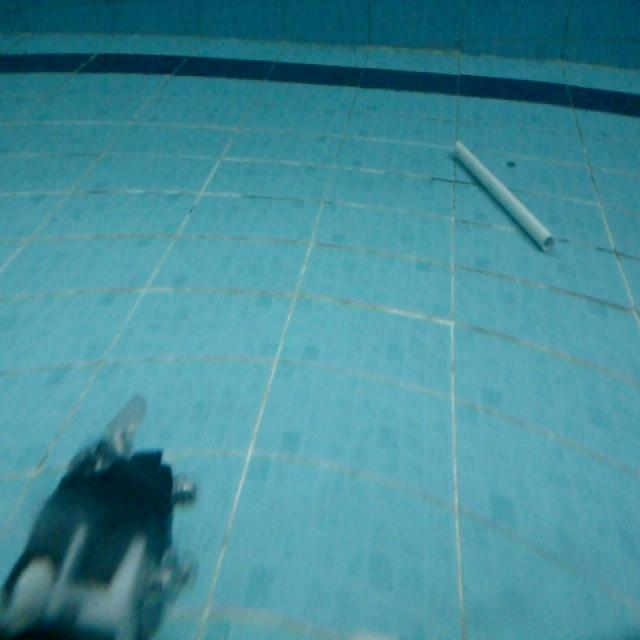Cube: (450, 133, 557, 256)
